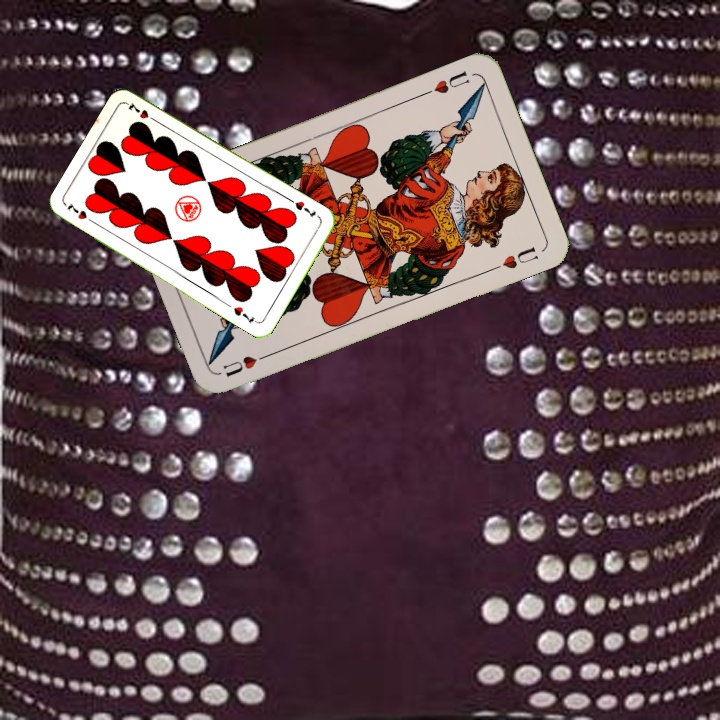H7: (63, 199, 99, 226), (291, 197, 318, 220)
HU: (218, 349, 274, 380), (419, 67, 472, 99)
